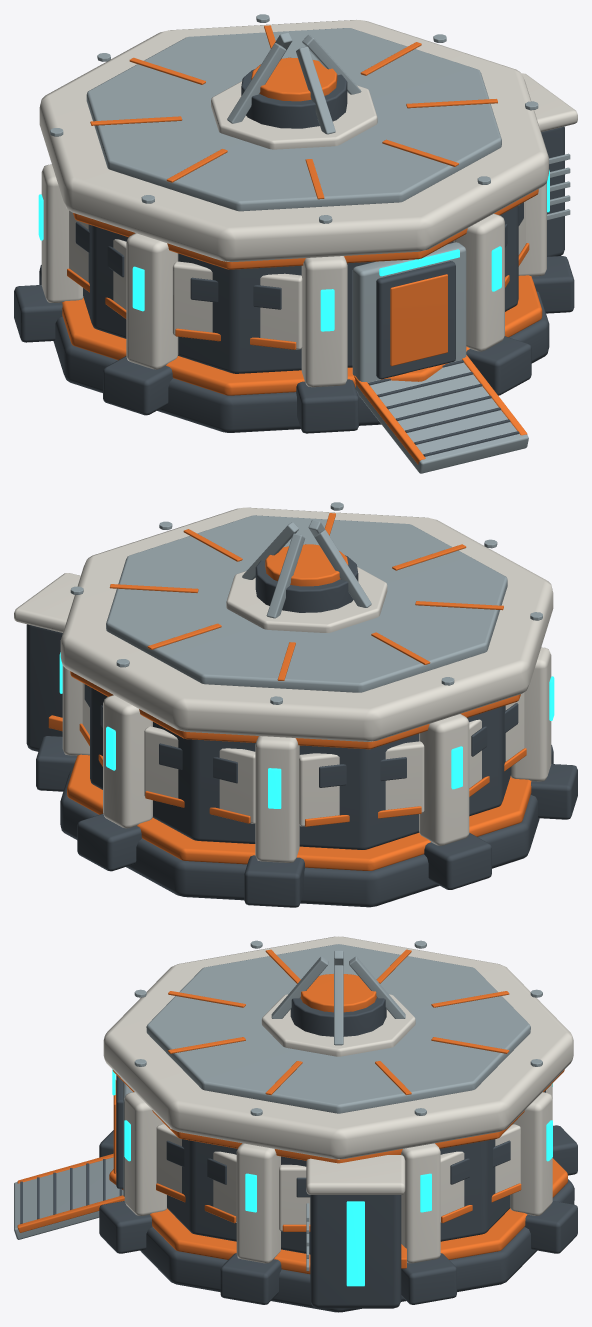
File: SM_RemoteBase_Body.fbx
The picture shows the model from 3 angles, top to bottom: view 1: azimuth 30°, elevation 25°; view 2: azimuth 150°, elevation 25°; view 3: azimuth 270°, elevation 25°; orthographic projection. The views are drawn at different scales.
Parts seen in each view (by area): view 1: SM_RemoteBase_Body; view 2: SM_RemoteBase_Body; view 3: SM_RemoteBase_Body.
Part boxes in pixels (x1,y1,x2,y2): SM_RemoteBase_Body: (14, 14, 577, 473); SM_RemoteBase_Body: (14, 502, 577, 907); SM_RemoteBase_Body: (14, 936, 577, 1312).
Bounding box in the file's own units: 452 × 495 × 251.
